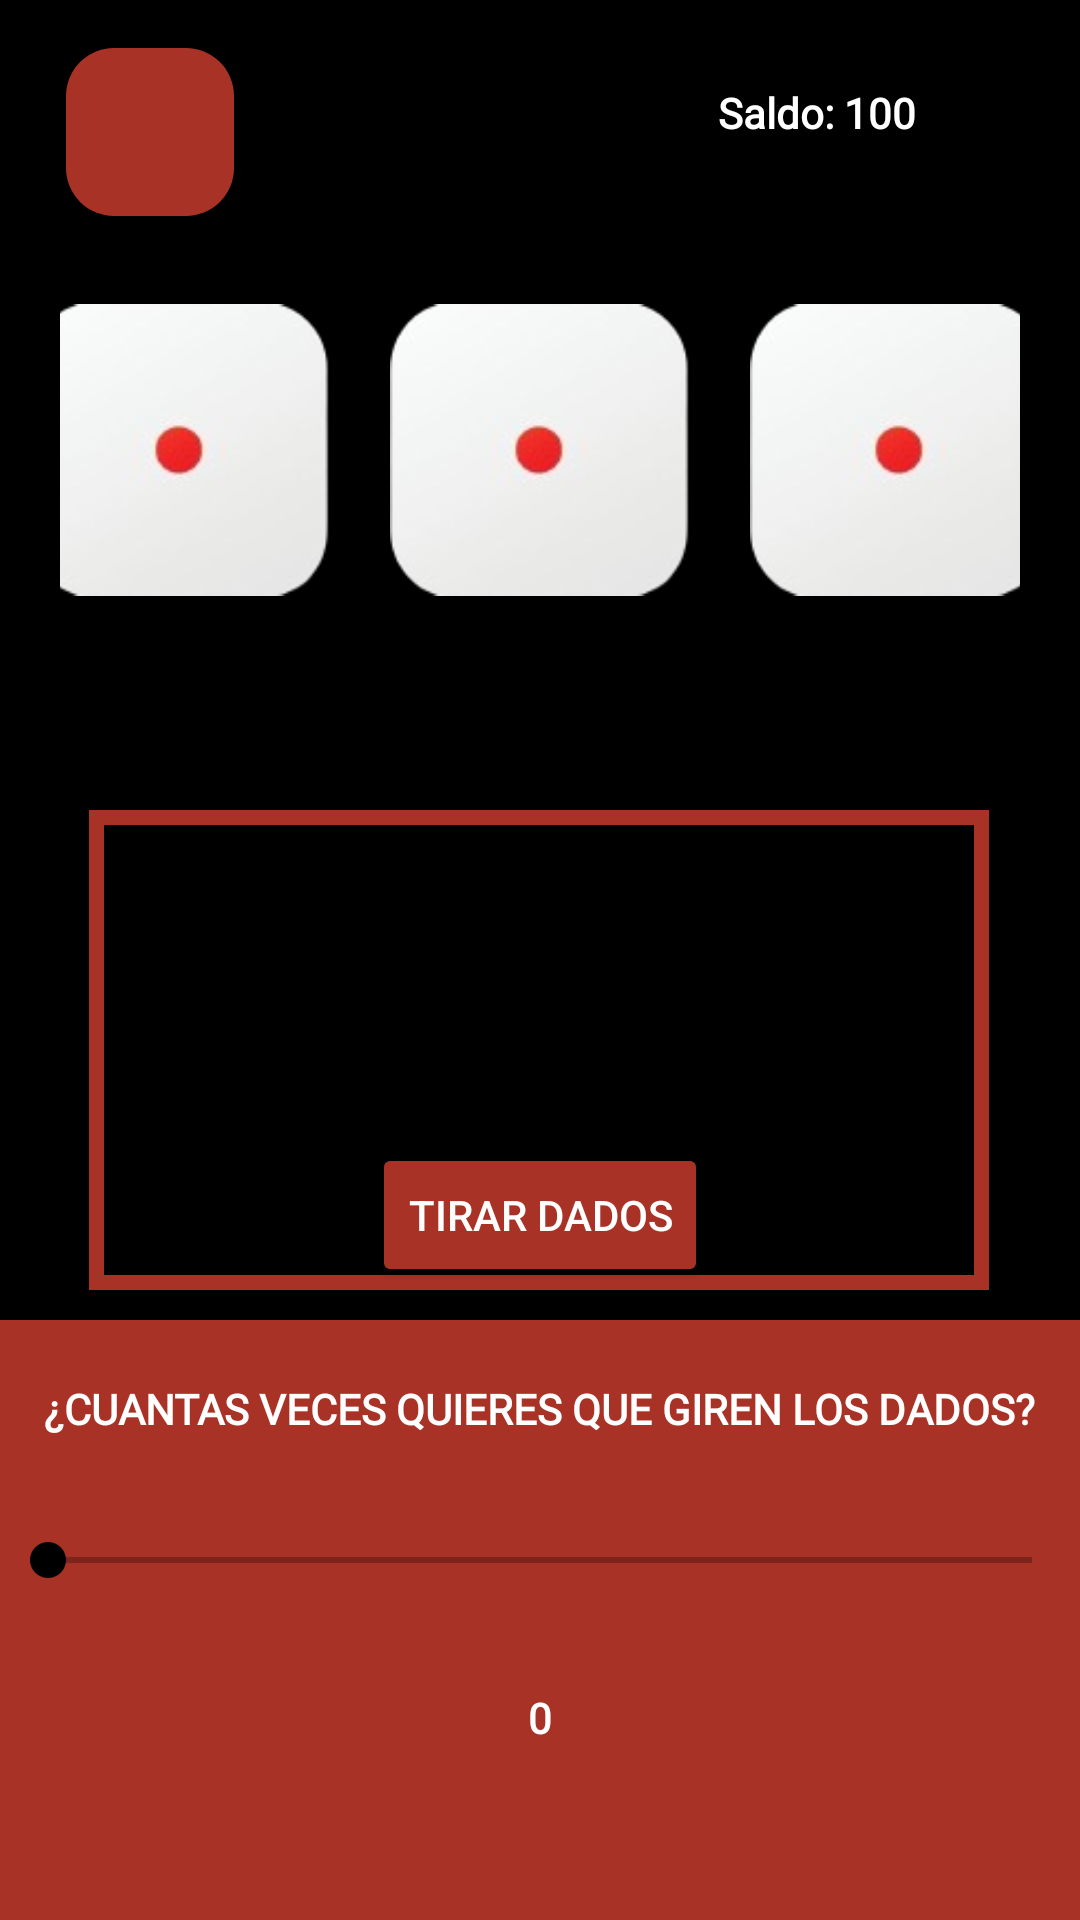

Where to tap for icons on this 1080 x 1920 app screen, as [x,y]:
dado: [194,450], [539,450], [885,450]
